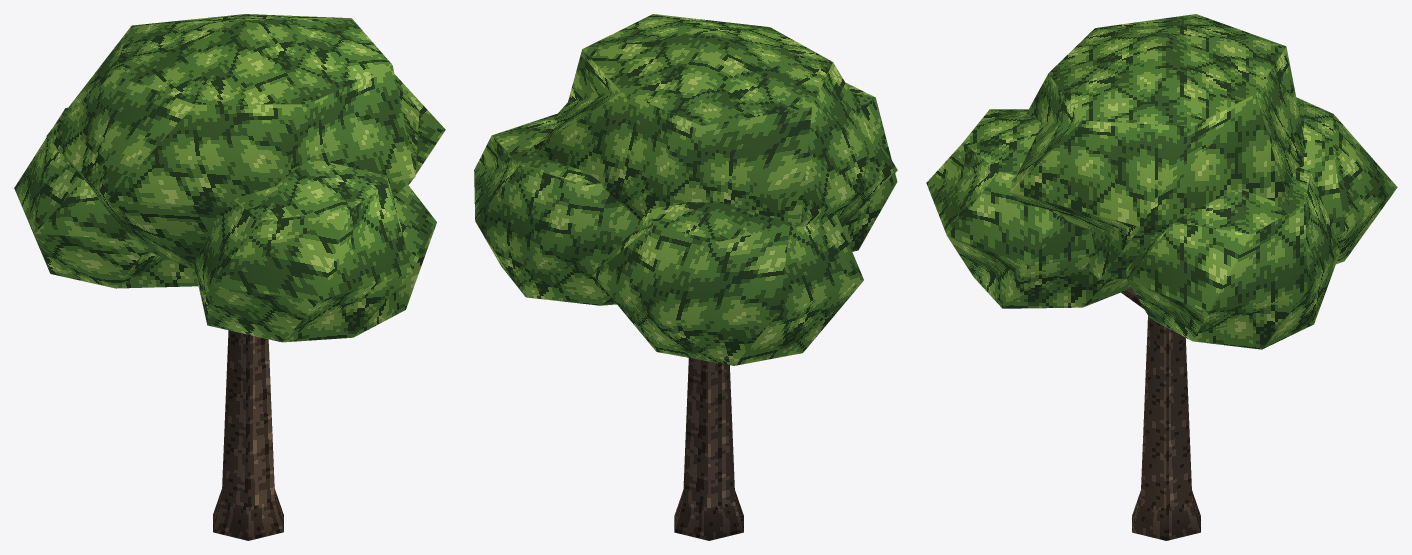
The model's file is mnat.oak.glb.
3 renders of one model, left to right at view 1: azimuth 30°, elevation 25°; view 2: azimuth 150°, elevation 25°; view 3: azimuth 270°, elevation 25°, orthographic. The views are drawn at different scales.
Parts seen in each view (by area): view 1: kit_crown, kit_trunk; view 2: kit_crown, kit_trunk; view 3: kit_crown, kit_trunk.
Boxes of the visible parts, left/top/right/bottom form: kit_crown: left=14, top=14, right=445, bottom=342; kit_trunk: left=213, top=330, right=283, bottom=540; kit_crown: left=474, top=14, right=897, bottom=365; kit_trunk: left=674, top=358, right=743, bottom=540; kit_crown: left=926, top=14, right=1397, bottom=349; kit_trunk: left=1121, top=288, right=1200, bottom=540.
Size of the model in its own units: 5.85 by 6.93 by 6.08.
Materials: 2 (2 with a texture image).
